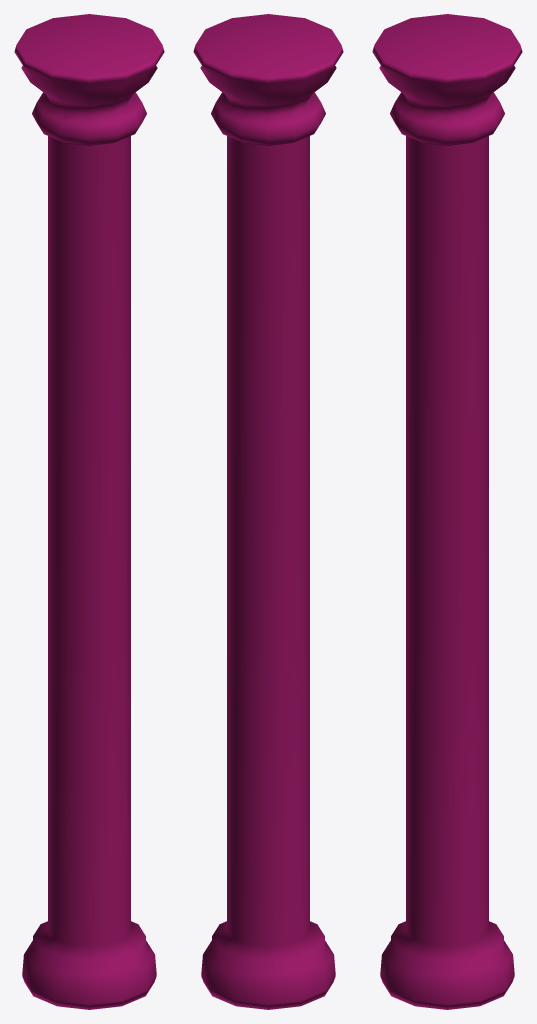
File: Pillar_01.fbx
3 views of the same model, side by side, from view 1: azimuth 30°, elevation 25°; view 2: azimuth 150°, elevation 25°; view 3: azimuth 270°, elevation 25° (orthographic).
Parts seen in each view (by area): view 1: Pillar_01; view 2: Pillar_01; view 3: Pillar_01.
Boxes of the visible parts, x1,y1,x2,y2 form: Pillar_01: (14, 14, 164, 1009); Pillar_01: (193, 14, 343, 1009); Pillar_01: (372, 14, 522, 1009).
Size of the model in its own units: 1.9 by 13.1 by 1.9.
